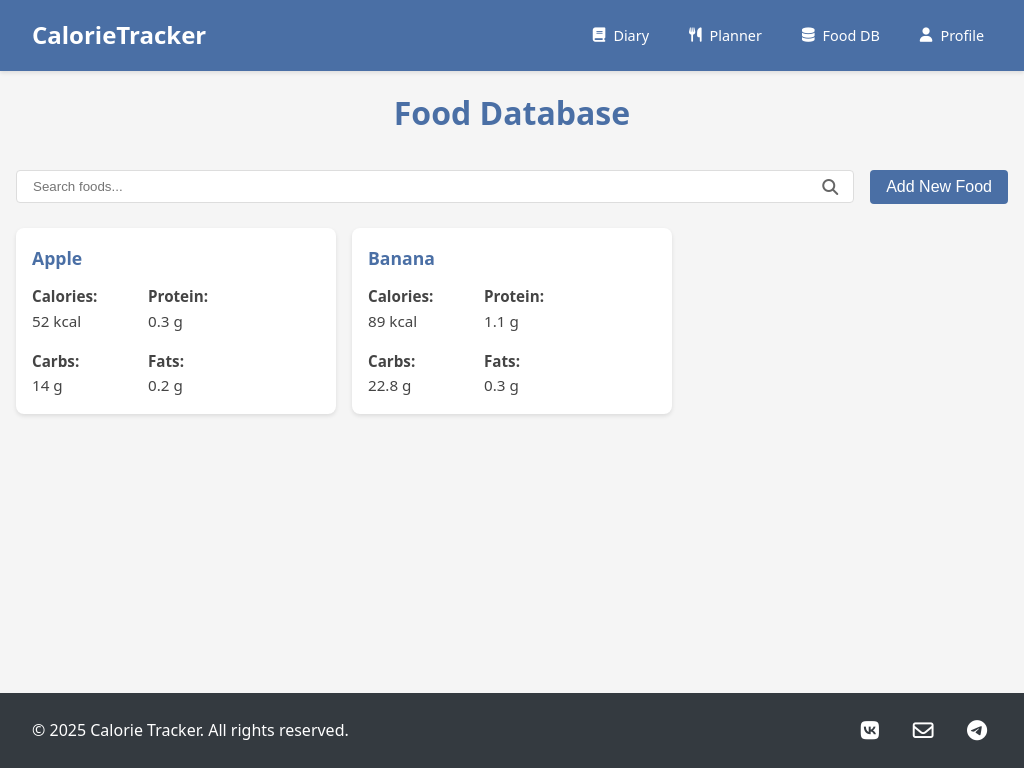
Test: Food Database Page › filters foods by search term
Type "apple" into the field with placeholder "Search foods...". click: (435, 187)
box: [16,170,854,203]
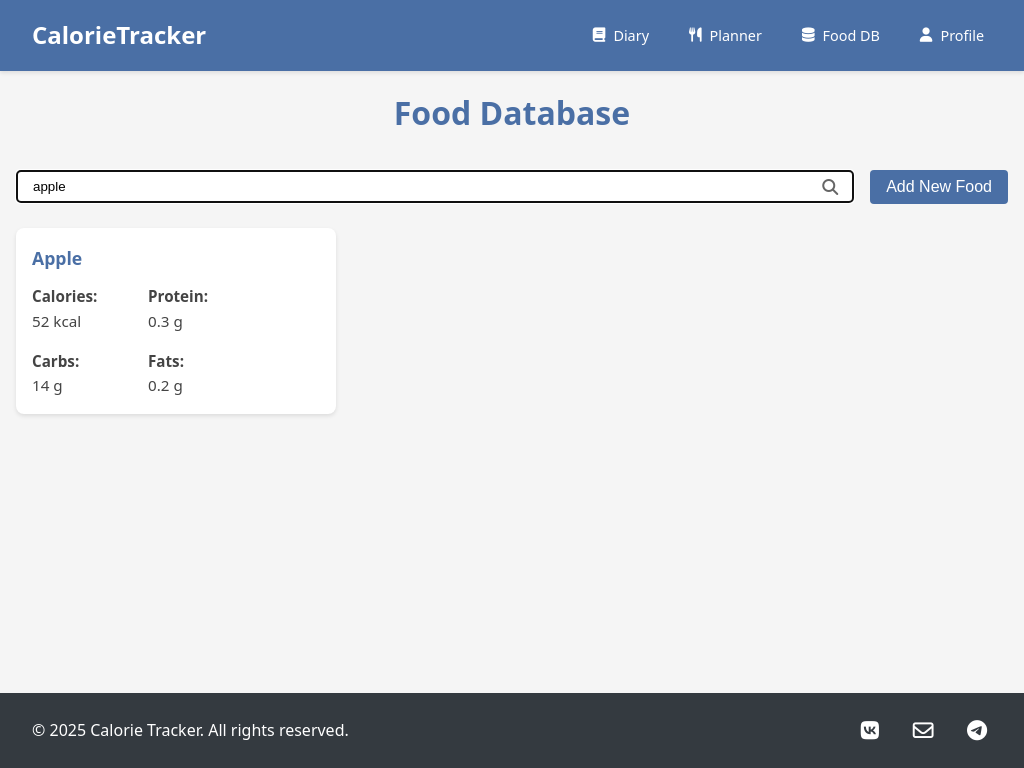
Expected: the text "Apple" is shown, [32,246,82,270]
Now the text "Banana" is gone
